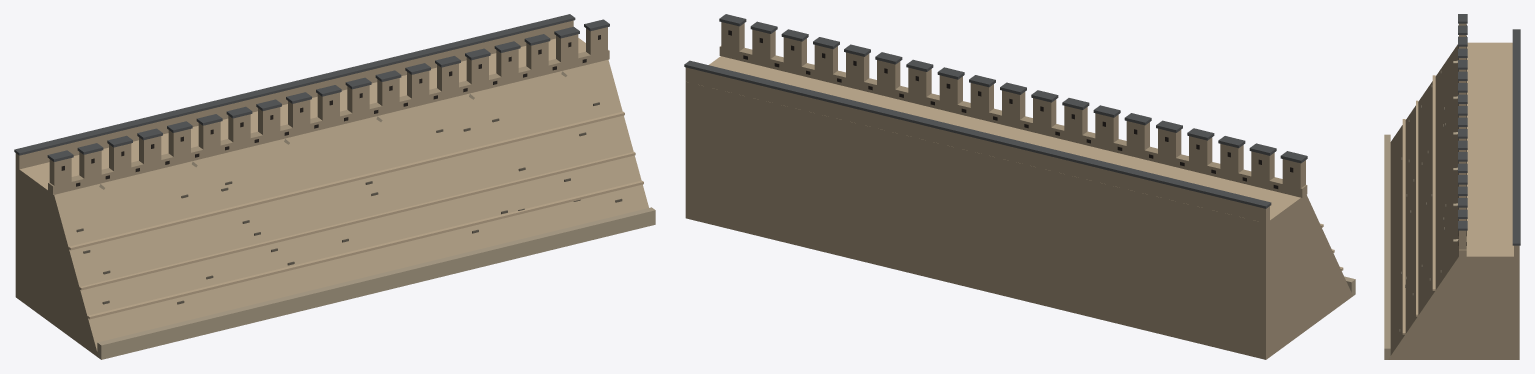
3 renders of one model, left to right at view 1: azimuth 30°, elevation 25°; view 2: azimuth 150°, elevation 25°; view 3: azimuth 270°, elevation 25°, orthographic. The views are drawn at different scales.
Parts seen in each view (by area): view 1: J05; view 2: J05; view 3: J05.
Part boxes in pixels (left/top/right/bottom): J05: left=14, top=14, right=655, bottom=359; J05: left=684, top=14, right=1355, bottom=359; J05: left=1384, top=14, right=1520, bottom=359.
Bounding box in the file's own units: 40.15 × 11.48 × 10.8.
